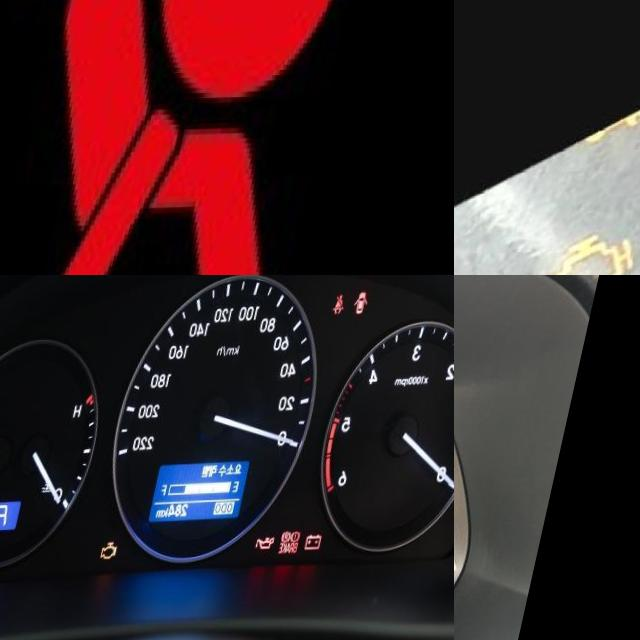Doors: (363, 292, 382, 317)
